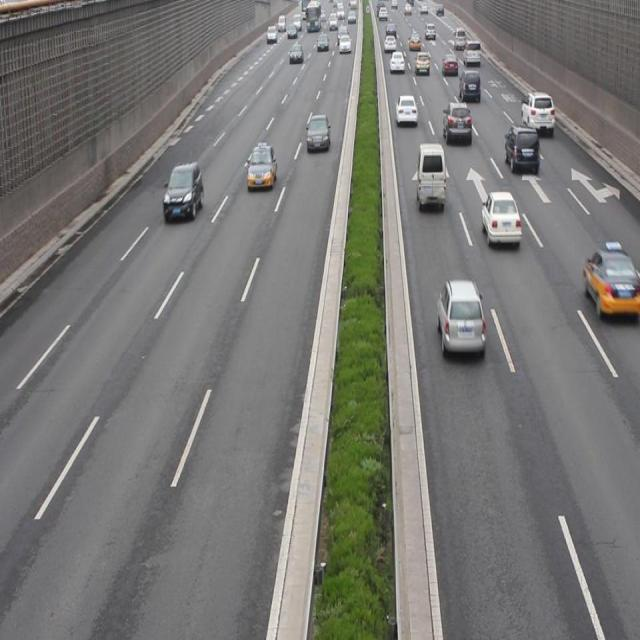car: (582, 242, 632, 320), (436, 282, 484, 358), (480, 190, 519, 252), (162, 165, 202, 218), (503, 124, 536, 176), (520, 93, 554, 135), (442, 100, 472, 144), (247, 142, 274, 189), (307, 112, 328, 150)
truck: (415, 143, 445, 211)
